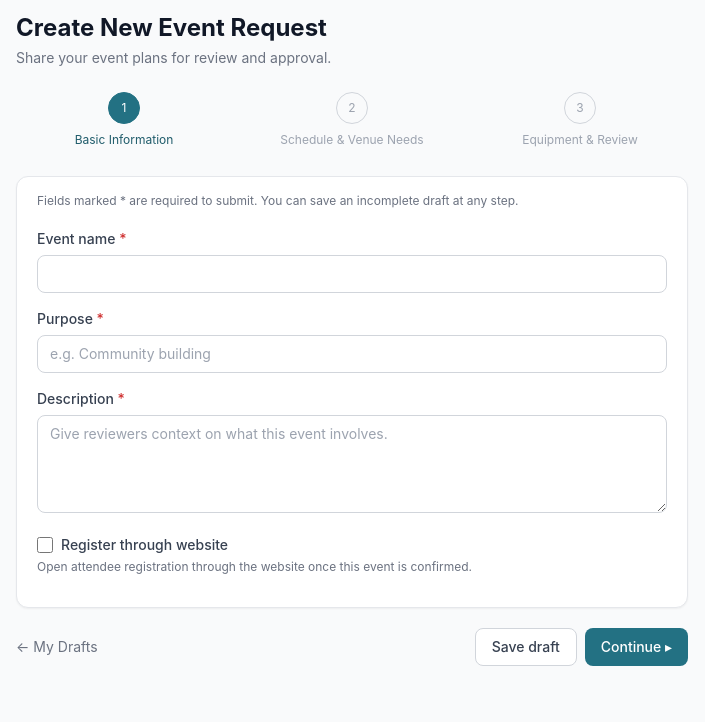
Test case: EventCreatePage › EVE-CRE-02-A exposes every Event Request field with an accessible label
This screenshot has width=705, height=722.
Expected: the field labelled "Purpose *" is shown, [37,335,667,373]
Expected: the text box labelled "Description *" is shown, [37,415,667,513]
Step 1. Type "Welcome Evening" into the field labelled "Event name *" → coordinates (352, 274), box [37,255,667,293]
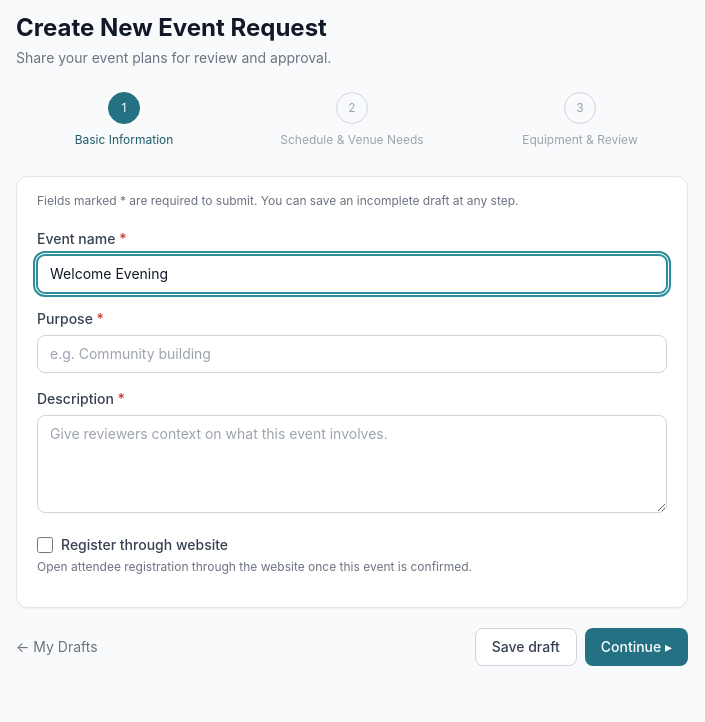
Step 2. Type "Community building" into the field labelled "Purpose *" → coordinates (352, 354), box [37,335,667,373]
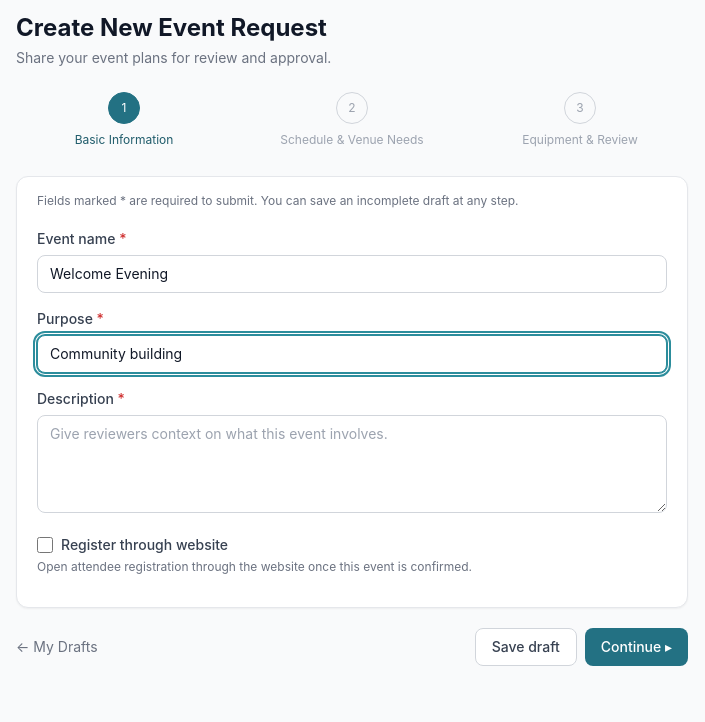
Step 3. Type "A welcome event for new members." into the text box labelled "Description *" → coordinates (352, 464), box [37,415,667,513]
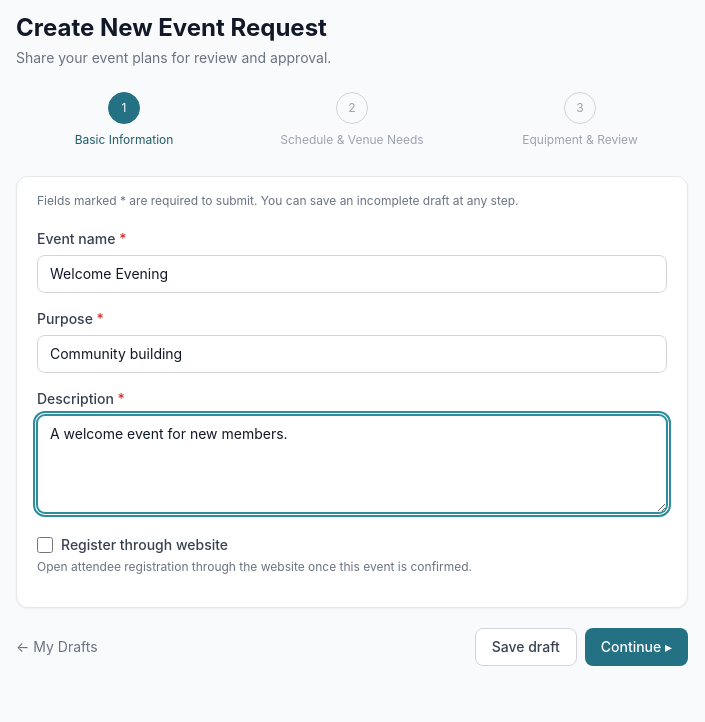
Step 4. Click the button "Continue ▸" → coordinates (636, 647), box [585,628,688,666]
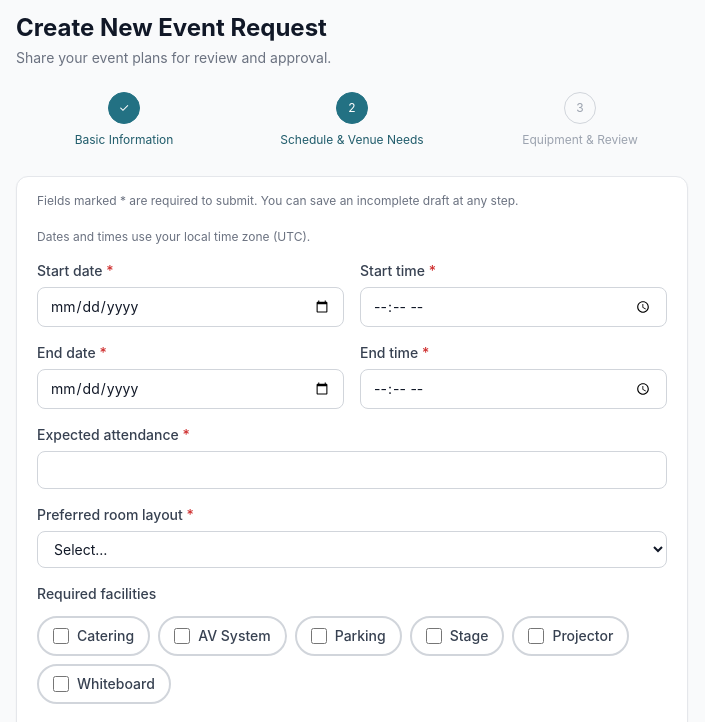
Result: the date field labelled "Start date *" is shown at [37,287,344,327]
Result: the time field labelled "Start time *" is shown at [360,287,667,327]
Result: the date field labelled "End date *" is shown at [37,369,344,409]
